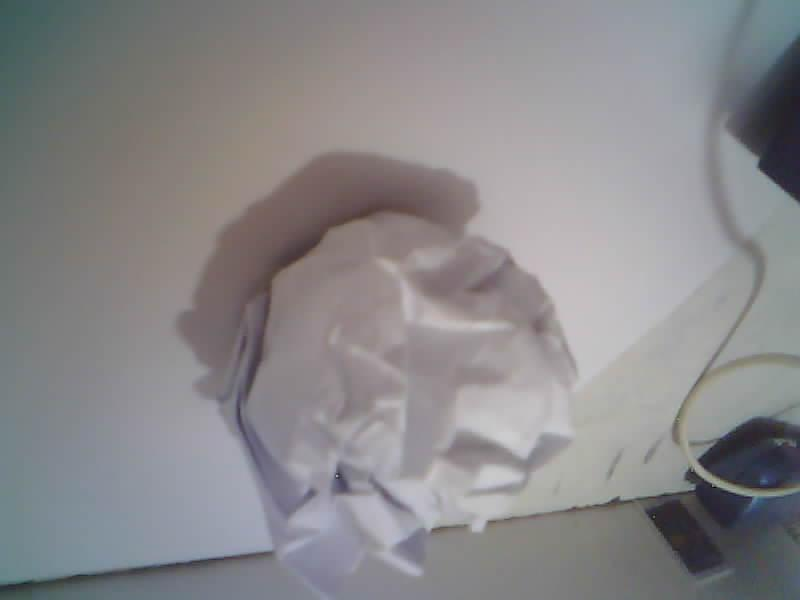biodegradable: (221, 213, 577, 599)
